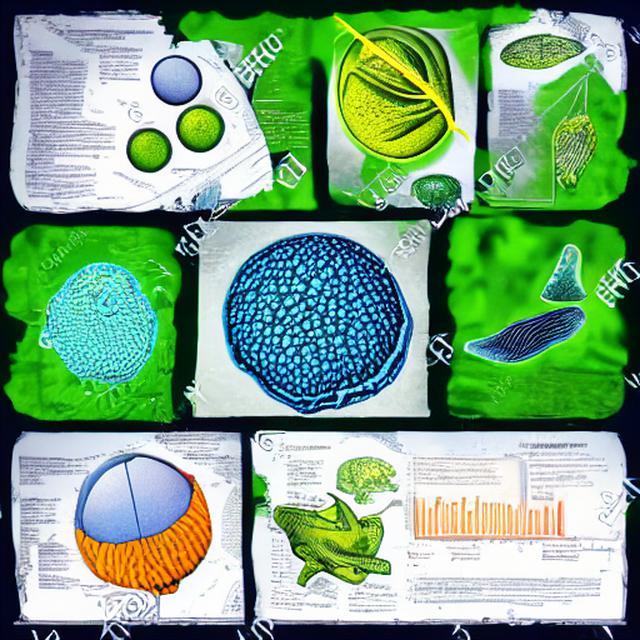Graph: (401, 480, 517, 551)
